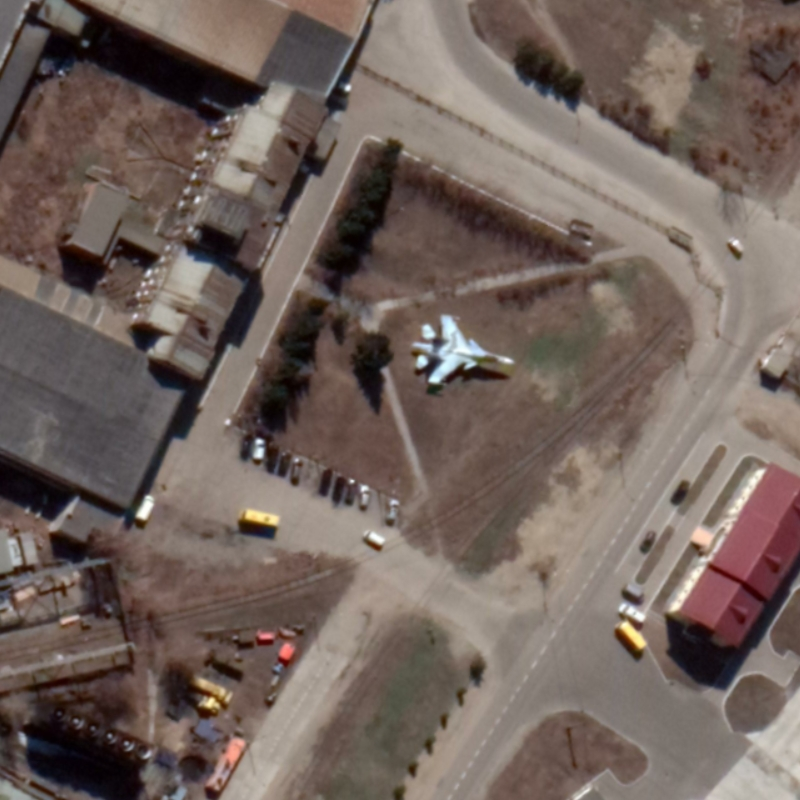A19: (408, 311, 519, 389)
